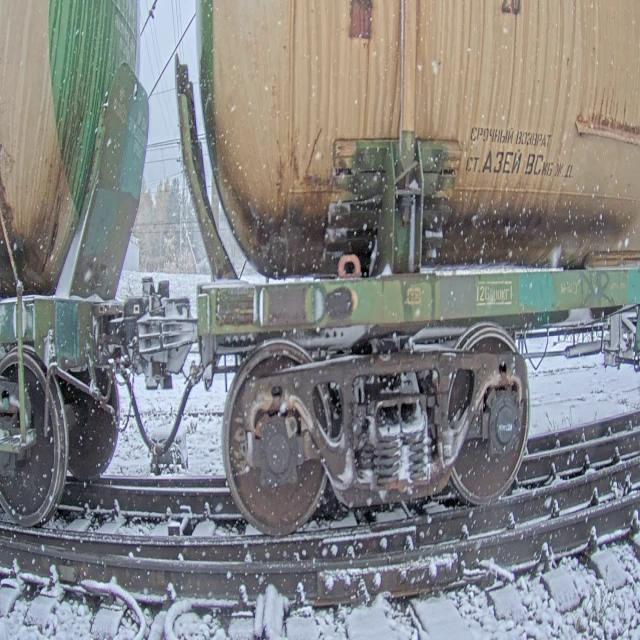tank: (172, 0, 640, 554), (0, 0, 155, 535)
